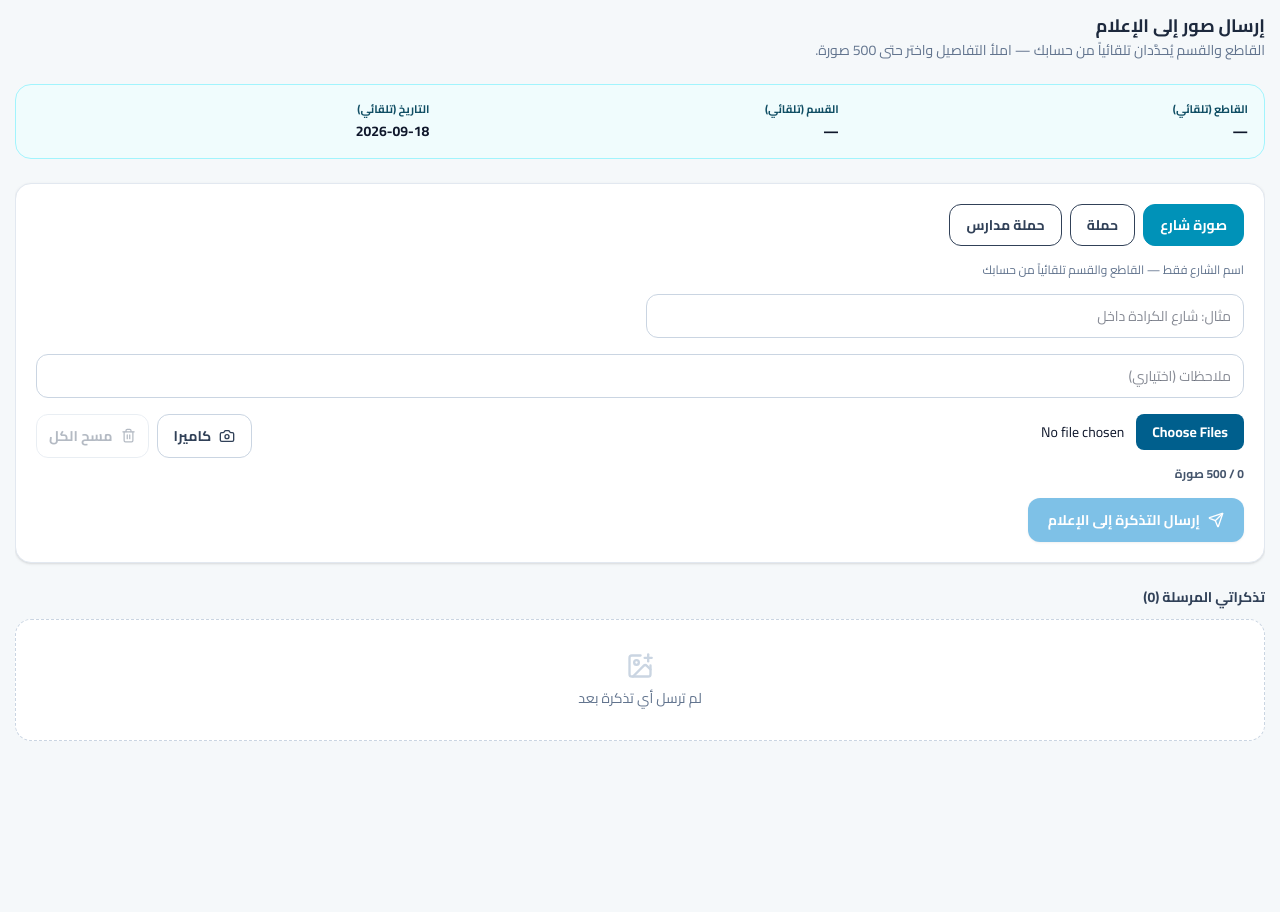
Test: وحدة إرسال الصور › خيار مخصص يفتح حقل كتابة نوع العمل
Click the button with test id "mode-campaign".
click(1102, 224)  # box [1070,204,1135,246]
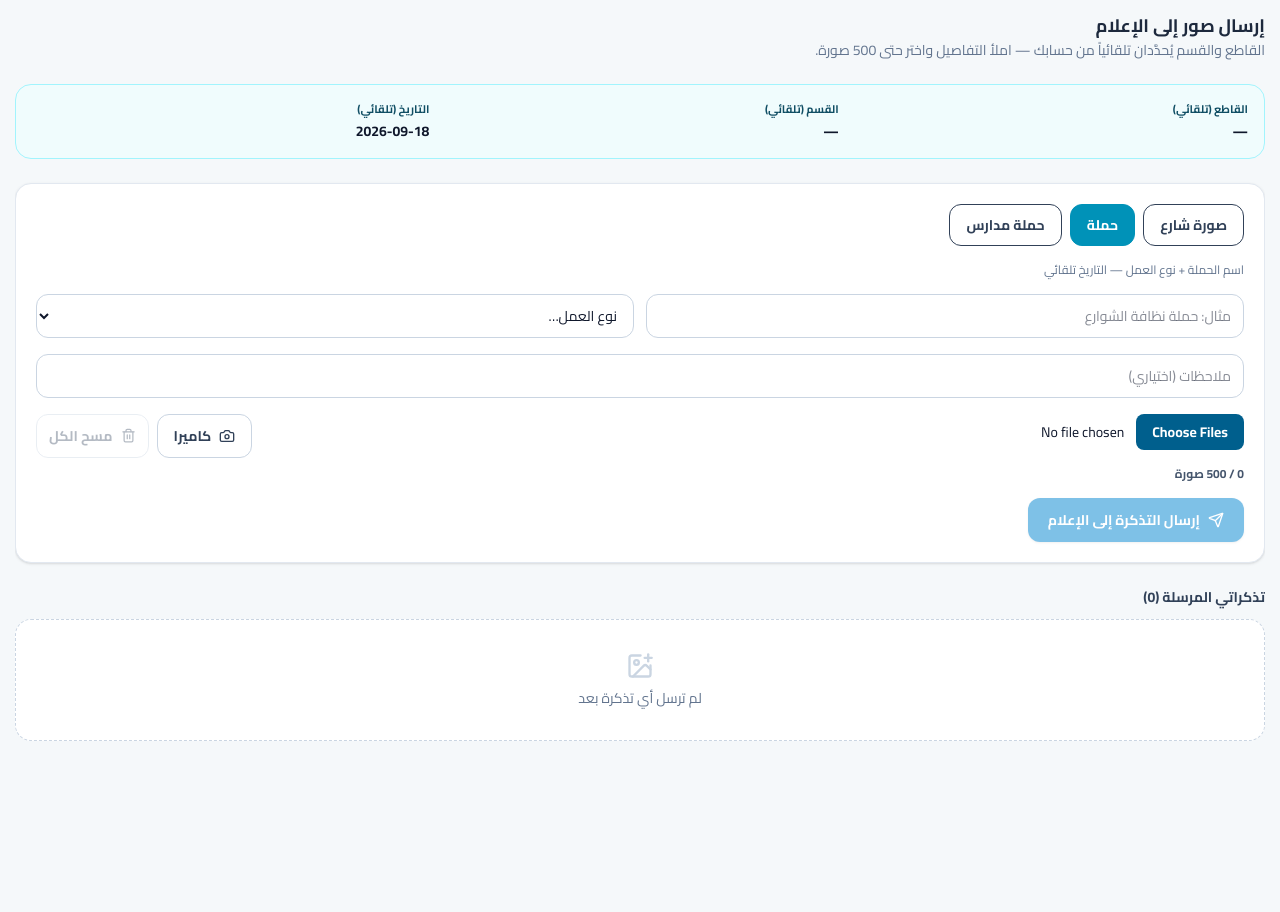
Select "مخصص…" in the dropdown with test id "f-photo-worktype" at [335, 316], box [36,294,634,338]
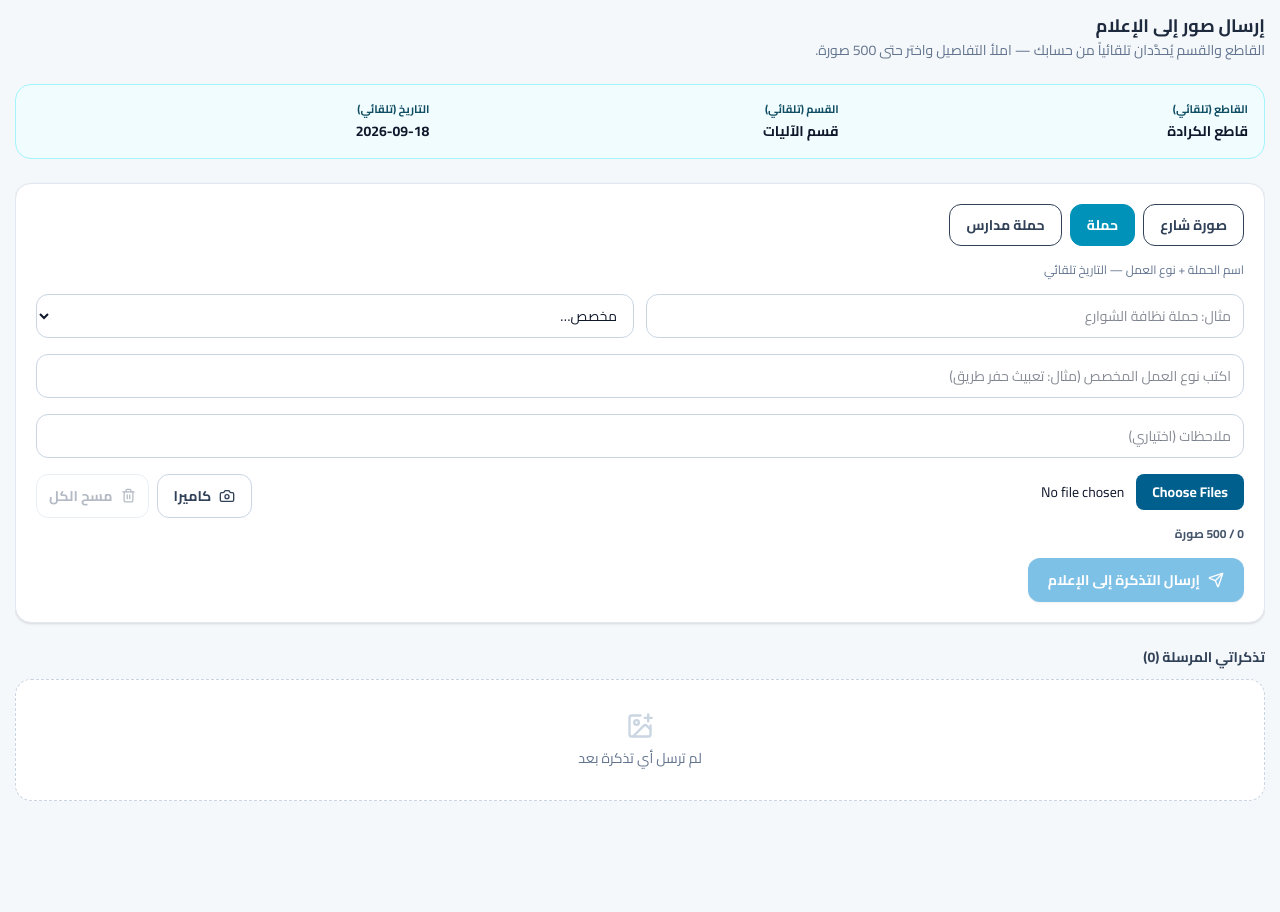
Now the field with test id "f-photo-customtype" is shown, box [36,354,1244,398]
